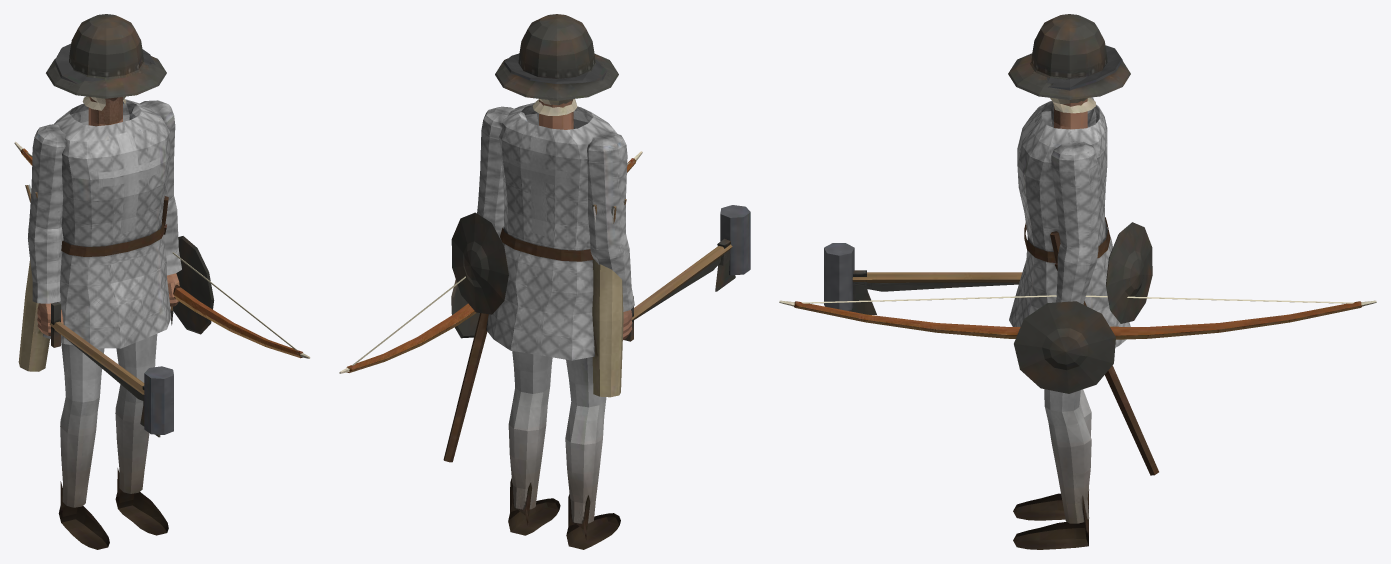
The model's file is archers.glb.
3 renders of one model, left to right at view 1: azimuth 30°, elevation 25°; view 2: azimuth 150°, elevation 25°; view 3: azimuth 270°, elevation 25°, orthographic. The views are drawn at different scales.
Parts seen in each view (by area): view 1: archers_LOD0; view 2: archers_LOD0; view 3: archers_LOD0.
Boxes of the visible parts, <box> form: archers_LOD0: <box>14,14,310,549</box>; archers_LOD0: <box>339,14,750,549</box>; archers_LOD0: <box>779,14,1376,549</box>.
Size of what is drawn, in the model's own units: 0.6094 by 1.8 by 1.9.
Materials: 1 (1 with a texture image).
